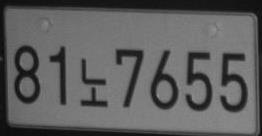1: (47, 46, 74, 105)
5: (219, 52, 248, 113), (184, 51, 212, 110)
6: (150, 49, 179, 110)
7: (115, 49, 144, 107)
8: (13, 44, 41, 104)
노: (80, 58, 108, 107)
